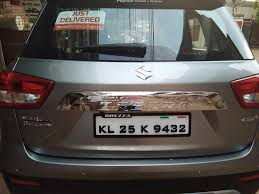numberplate: (93, 112, 191, 138)
